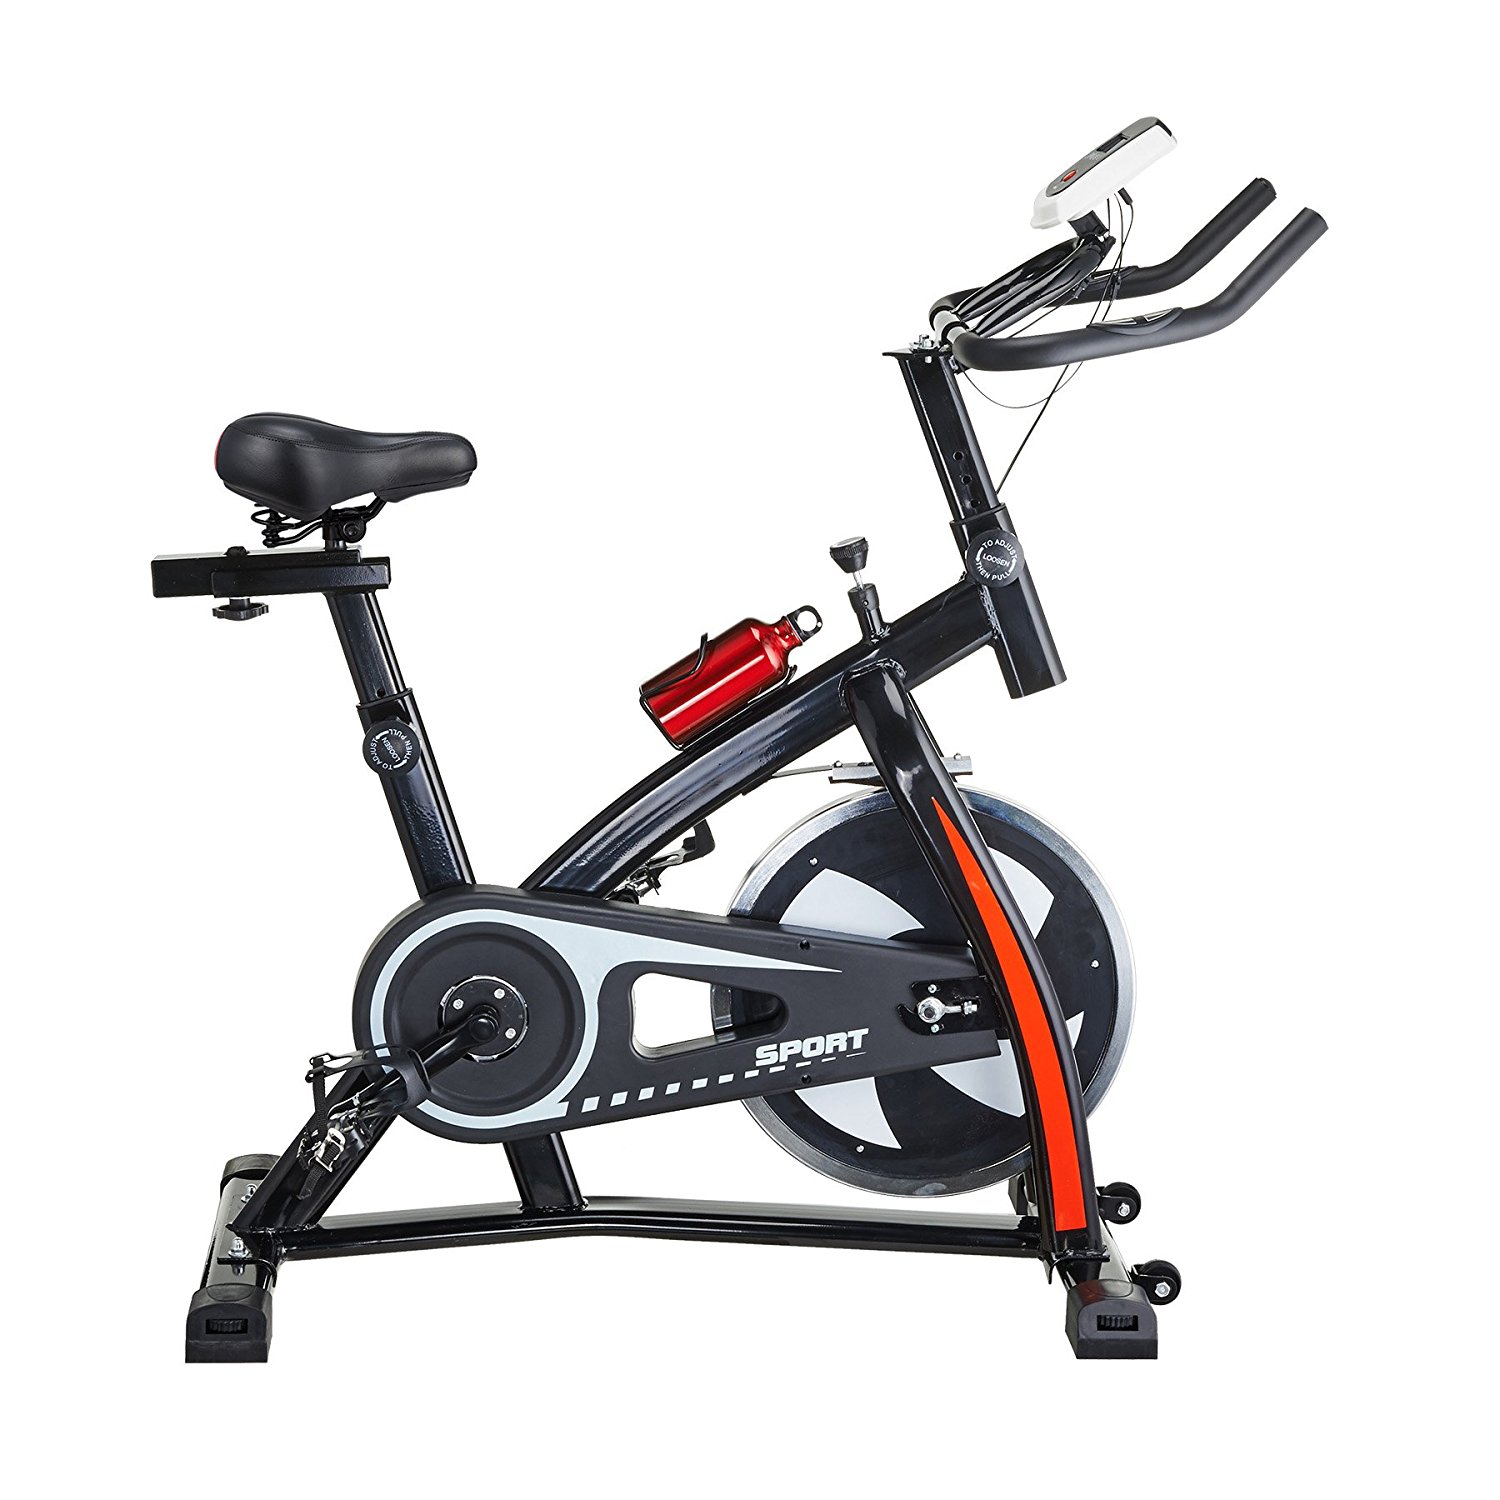gym_bike: (66, 118, 1335, 1391)
